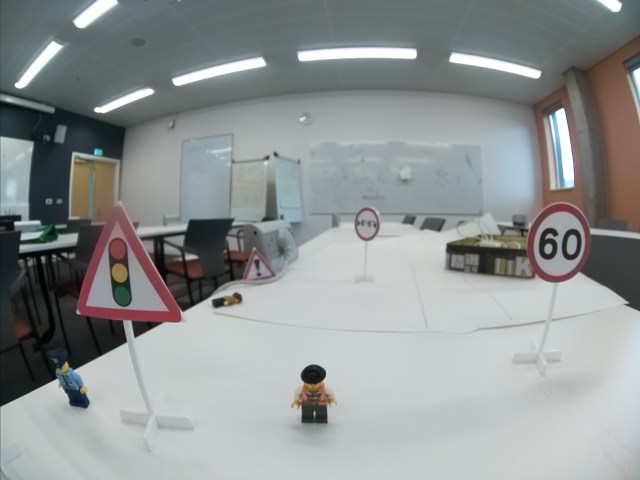60mph: (525, 202, 599, 281)
6ft6: (355, 206, 379, 241)
Lego Man: (292, 363, 339, 428), (47, 348, 94, 411), (211, 291, 244, 310)
Traffic lights: (73, 202, 182, 322)
Warning: (243, 246, 280, 281)
